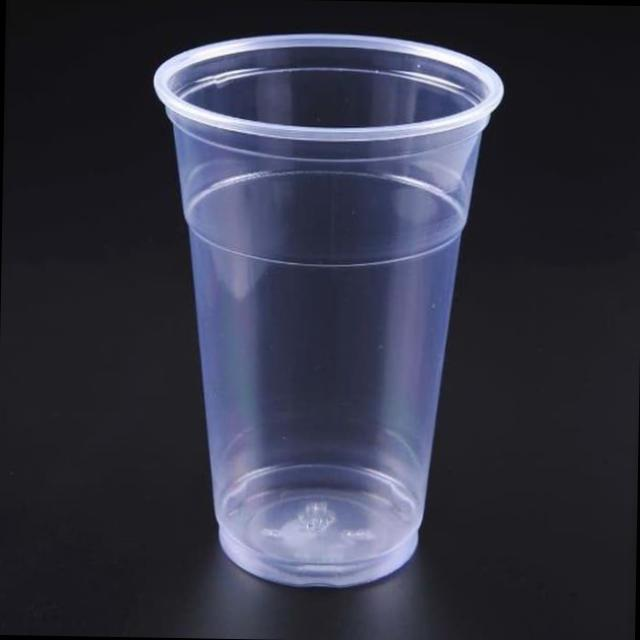GelasPlastik: (143, 29, 506, 592)
